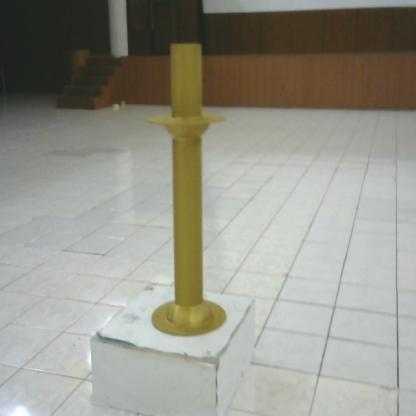pole: (144, 33, 239, 345)
